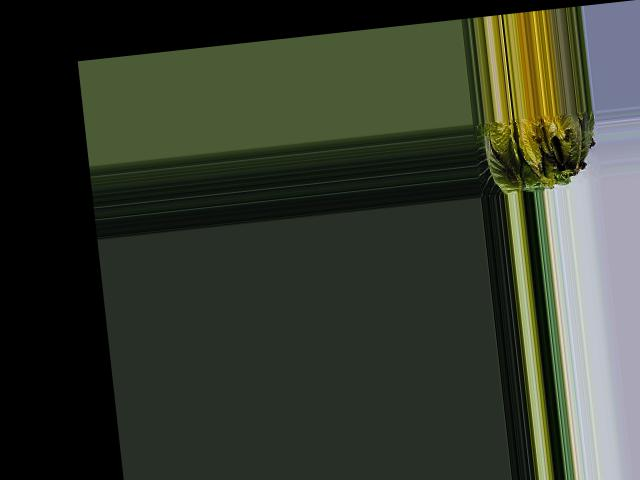lettuce: (472, 110, 596, 195)
